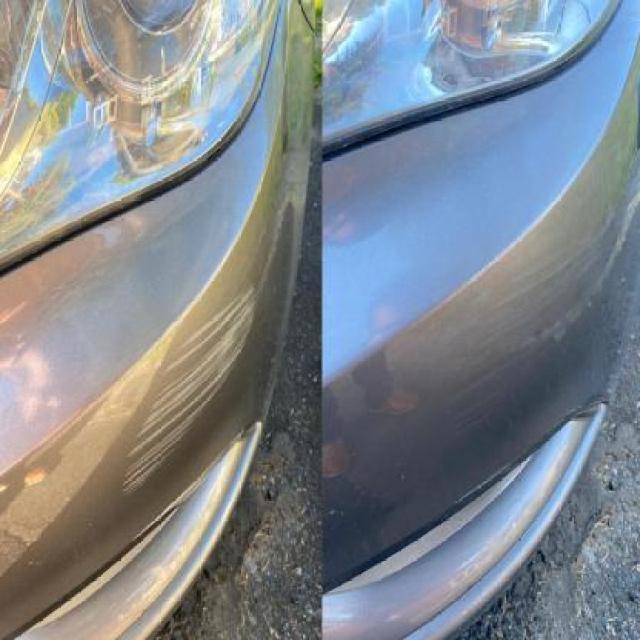scratch: (121, 278, 272, 504)
